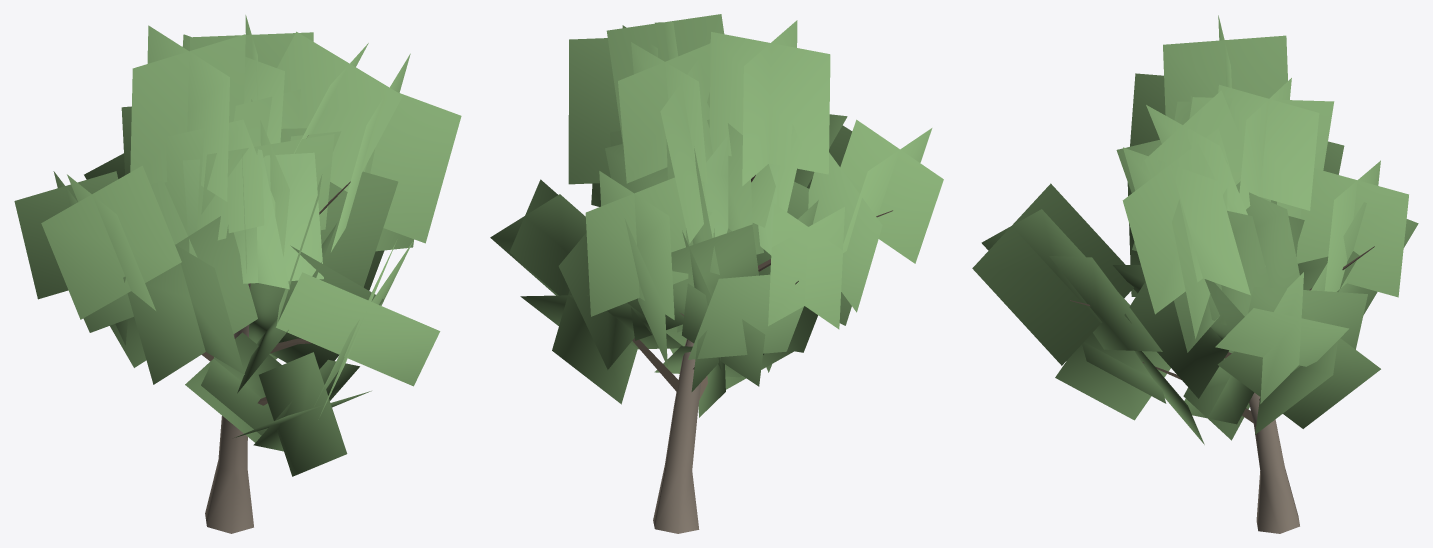
Rendered from tree_oak_a_lod1.glb.
The picture shows the model from 3 angles, left to right: view 1: azimuth 30°, elevation 25°; view 2: azimuth 150°, elevation 25°; view 3: azimuth 270°, elevation 25°; orthographic projection. The views are drawn at different scales.
Visible parts, largest first — view 1: tree_oak_a_lod1; view 2: tree_oak_a_lod1; view 3: tree_oak_a_lod1.
Boxes of the visible parts, left/top/right/bottom form: tree_oak_a_lod1: left=14, top=15, right=461, bottom=533; tree_oak_a_lod1: left=490, top=14, right=943, bottom=533; tree_oak_a_lod1: left=972, top=15, right=1418, bottom=533.
Bounding box in the file's own units: 11.98 × 13.87 × 12.29.
